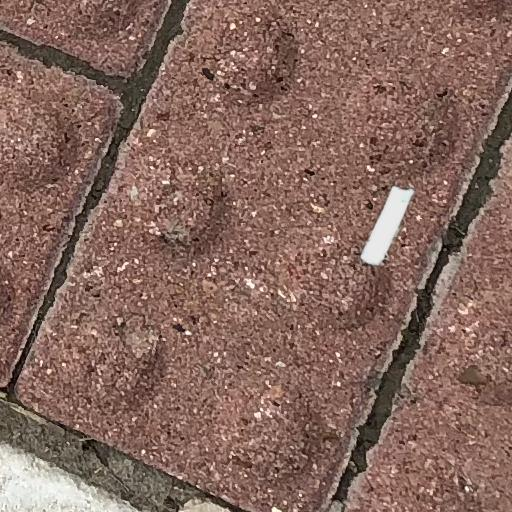smoke: (361, 187, 413, 264)
